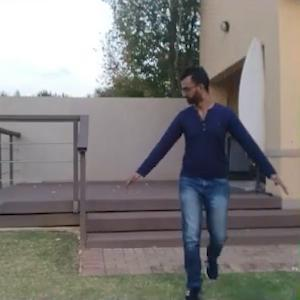land: (114, 55, 293, 295)
